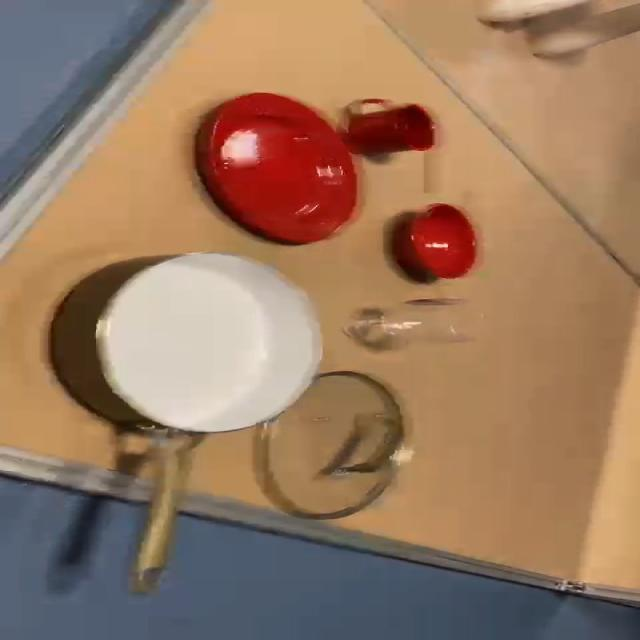Bowl: (386, 200, 482, 288)
Glass: (348, 294, 482, 357)
Plate: (195, 91, 368, 248)
cup: (348, 97, 448, 153)
pot: (52, 248, 330, 594)
